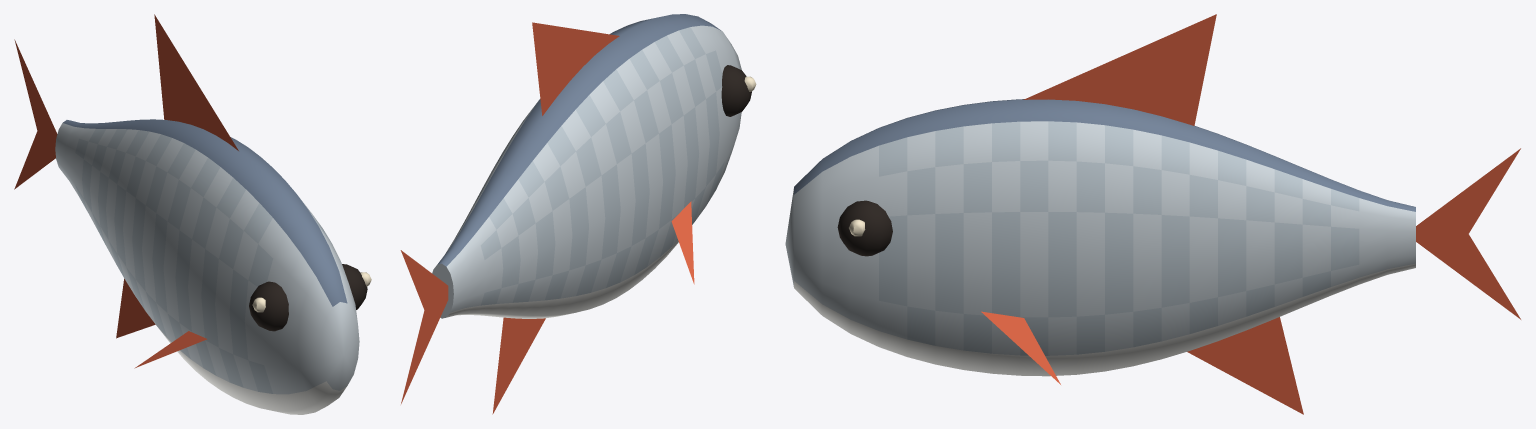
File: roach.fbx
3 renders of one model, left to right at view 1: azimuth 30°, elevation 25°; view 2: azimuth 150°, elevation 25°; view 3: azimuth 270°, elevation 25°, orthographic. The views are drawn at different scales.
Visible parts, largest first — view 1: Fish_roach_EXP; view 2: Fish_roach_EXP; view 3: Fish_roach_EXP.
Boxes of the visible parts, bbox=[...] form: Fish_roach_EXP: bbox=[14, 14, 371, 414]; Fish_roach_EXP: bbox=[400, 14, 756, 414]; Fish_roach_EXP: bbox=[785, 14, 1520, 414].
Bounding box in the file's own units: 0.1128 × 0.2135 × 0.3552.
